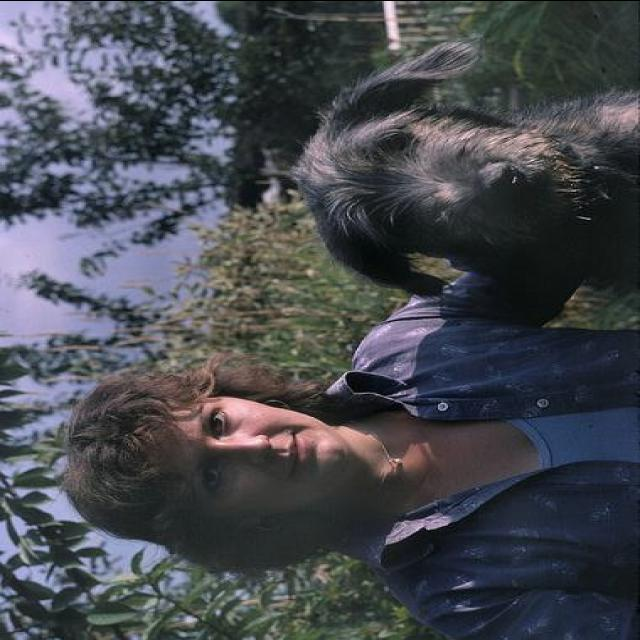irish_wolfhound: (294, 38, 638, 296)
